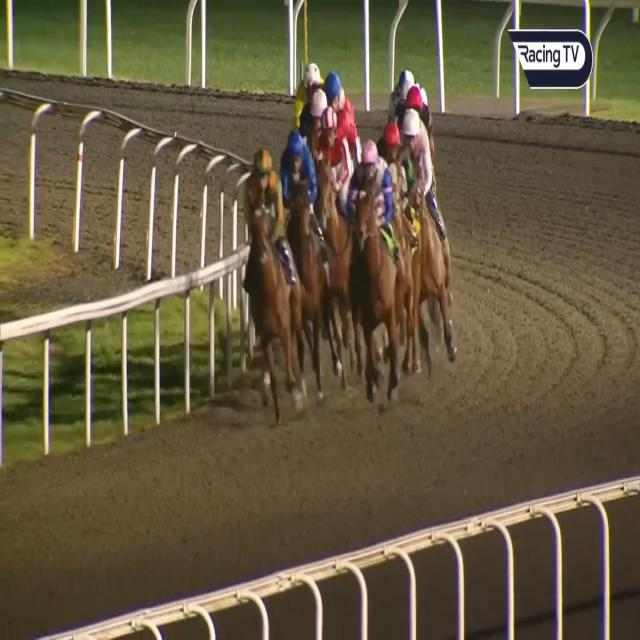horses-racing: (241, 142, 304, 393), (355, 137, 402, 395), (279, 132, 328, 362), (321, 107, 348, 271), (377, 117, 411, 187), (292, 64, 322, 124), (320, 72, 349, 115), (397, 104, 423, 151), (402, 88, 430, 116), (393, 78, 412, 105), (391, 67, 416, 85)
